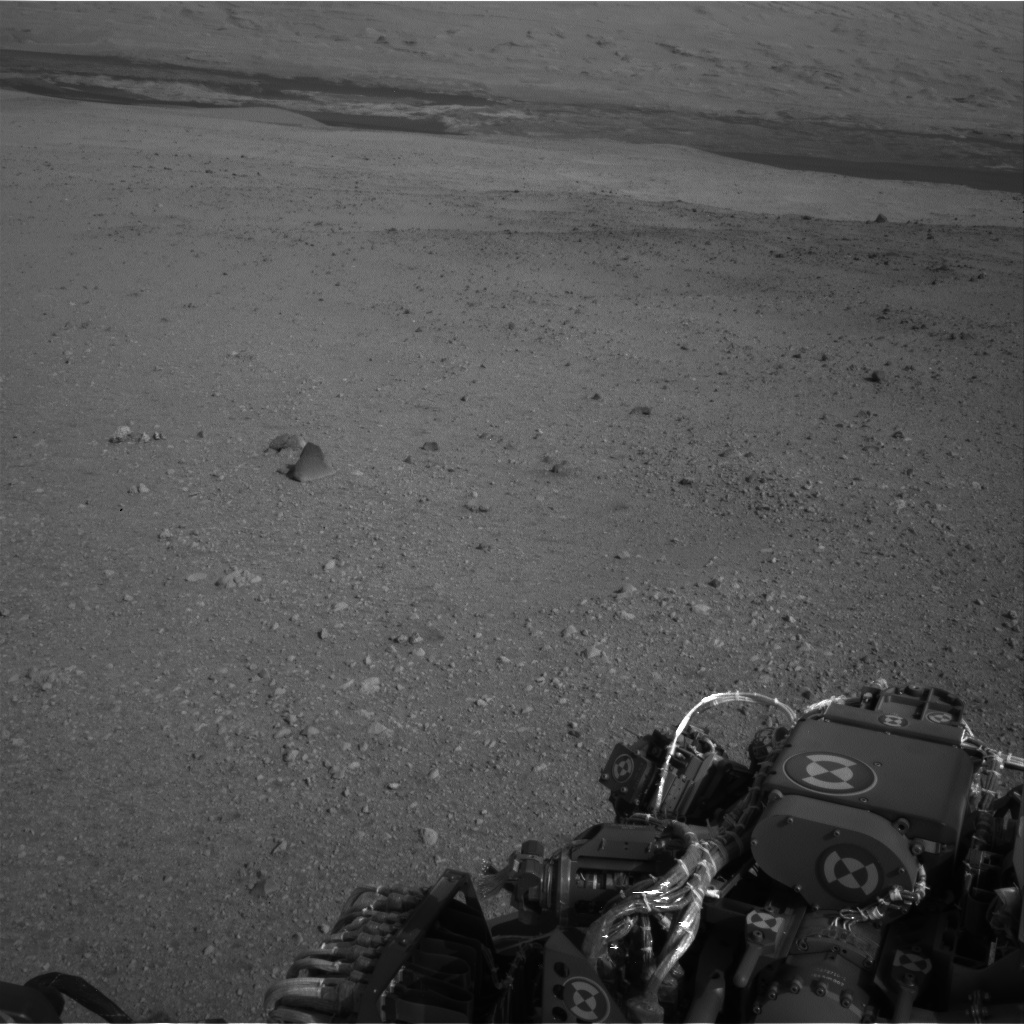soil: (8, 231, 1022, 939)
